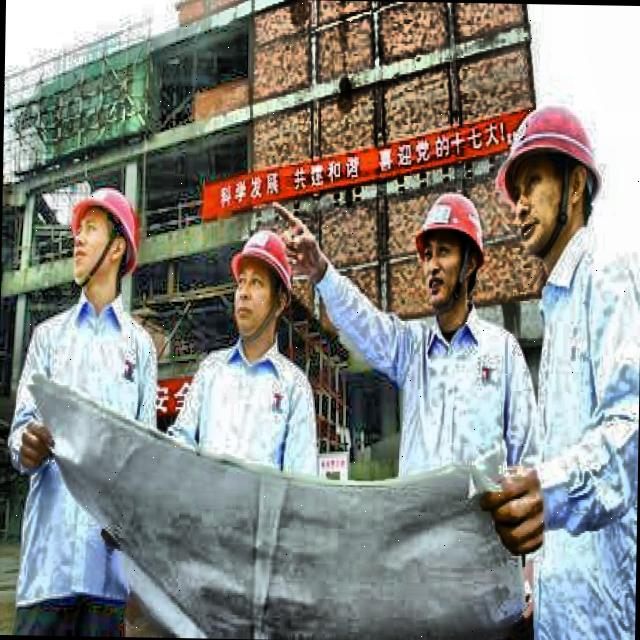helmet: (496, 100, 608, 247), (414, 193, 490, 320), (63, 186, 146, 302), (223, 230, 299, 350)
